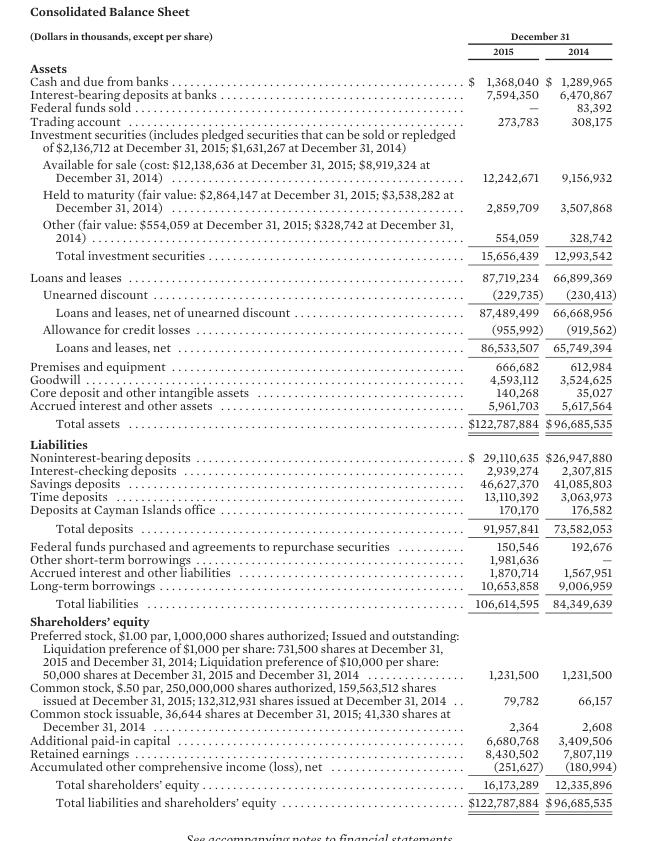table: (28, 29, 616, 809)
table column: (28, 29, 462, 809), (462, 29, 543, 809), (543, 29, 616, 809)
table column header: (28, 29, 616, 58)
table projected row header: (28, 126, 616, 155), (28, 433, 616, 450), (28, 58, 616, 74), (28, 612, 616, 627)
table row: (28, 627, 616, 680), (28, 155, 616, 185), (28, 185, 616, 215), (28, 215, 616, 245), (28, 126, 616, 155), (28, 680, 616, 706), (28, 706, 616, 732), (28, 245, 616, 266), (28, 413, 616, 433), (28, 266, 616, 285), (28, 593, 616, 612), (28, 285, 616, 303), (28, 320, 616, 338), (28, 338, 616, 356), (28, 518, 616, 536), (28, 774, 616, 792), (28, 303, 616, 320), (28, 433, 616, 450), (28, 792, 616, 809), (28, 42, 616, 58), (28, 58, 616, 74), (28, 356, 616, 372), (28, 502, 616, 518), (28, 536, 616, 552), (28, 398, 616, 413), (28, 578, 616, 593), (28, 612, 616, 627), (28, 759, 616, 774), (28, 745, 616, 759), (28, 29, 616, 42), (28, 74, 616, 87), (28, 87, 616, 100), (28, 100, 616, 113), (28, 113, 616, 126), (28, 372, 616, 385), (28, 385, 616, 398), (28, 450, 616, 463), (28, 463, 616, 476), (28, 476, 616, 489), (28, 489, 616, 502), (28, 552, 616, 565), (28, 565, 616, 578), (28, 732, 616, 745)
table spanning cell: (28, 29, 462, 58), (462, 29, 616, 42)
